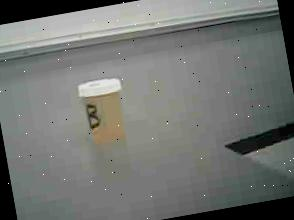Bottle B: (68, 69, 140, 156)
